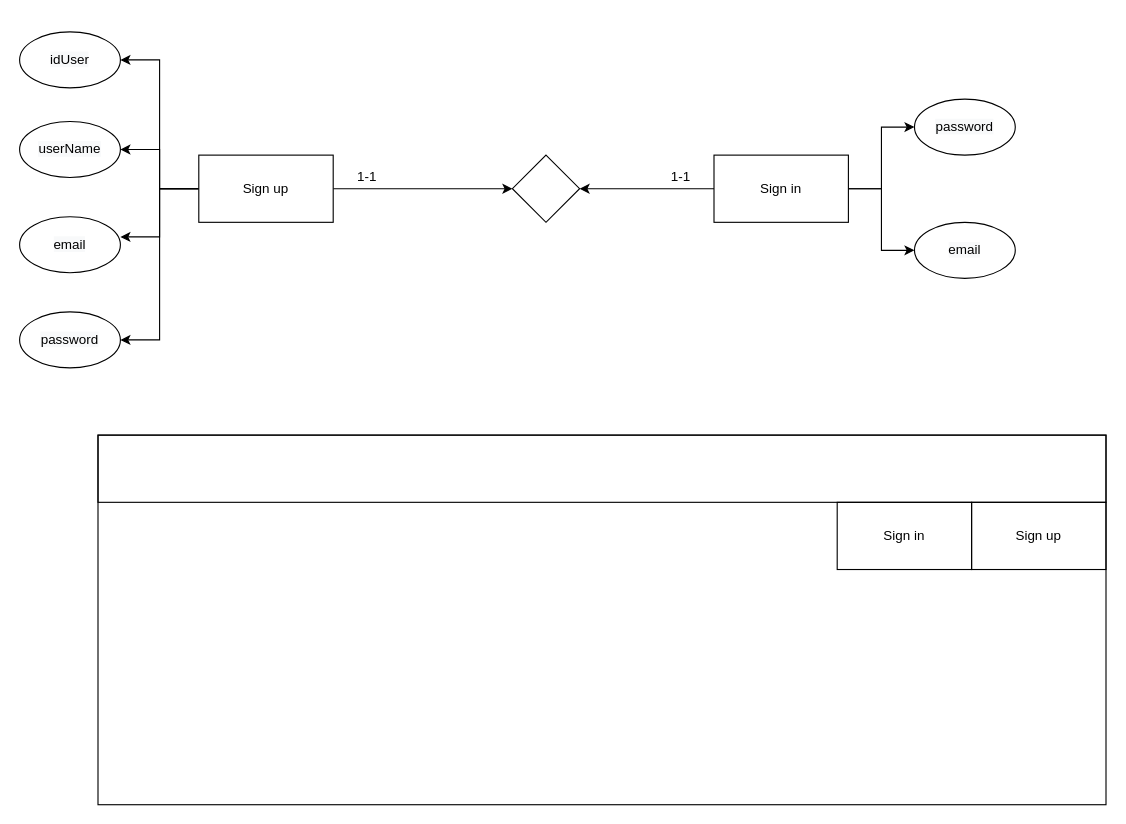
The diagram is 1126 pixels wide and 824 high, and some of its shapes have lost their labels. The centre of each missing label's shape, as x and y in pixels:
has: the point at 545,188
Web Authentication: the point at 601,468
